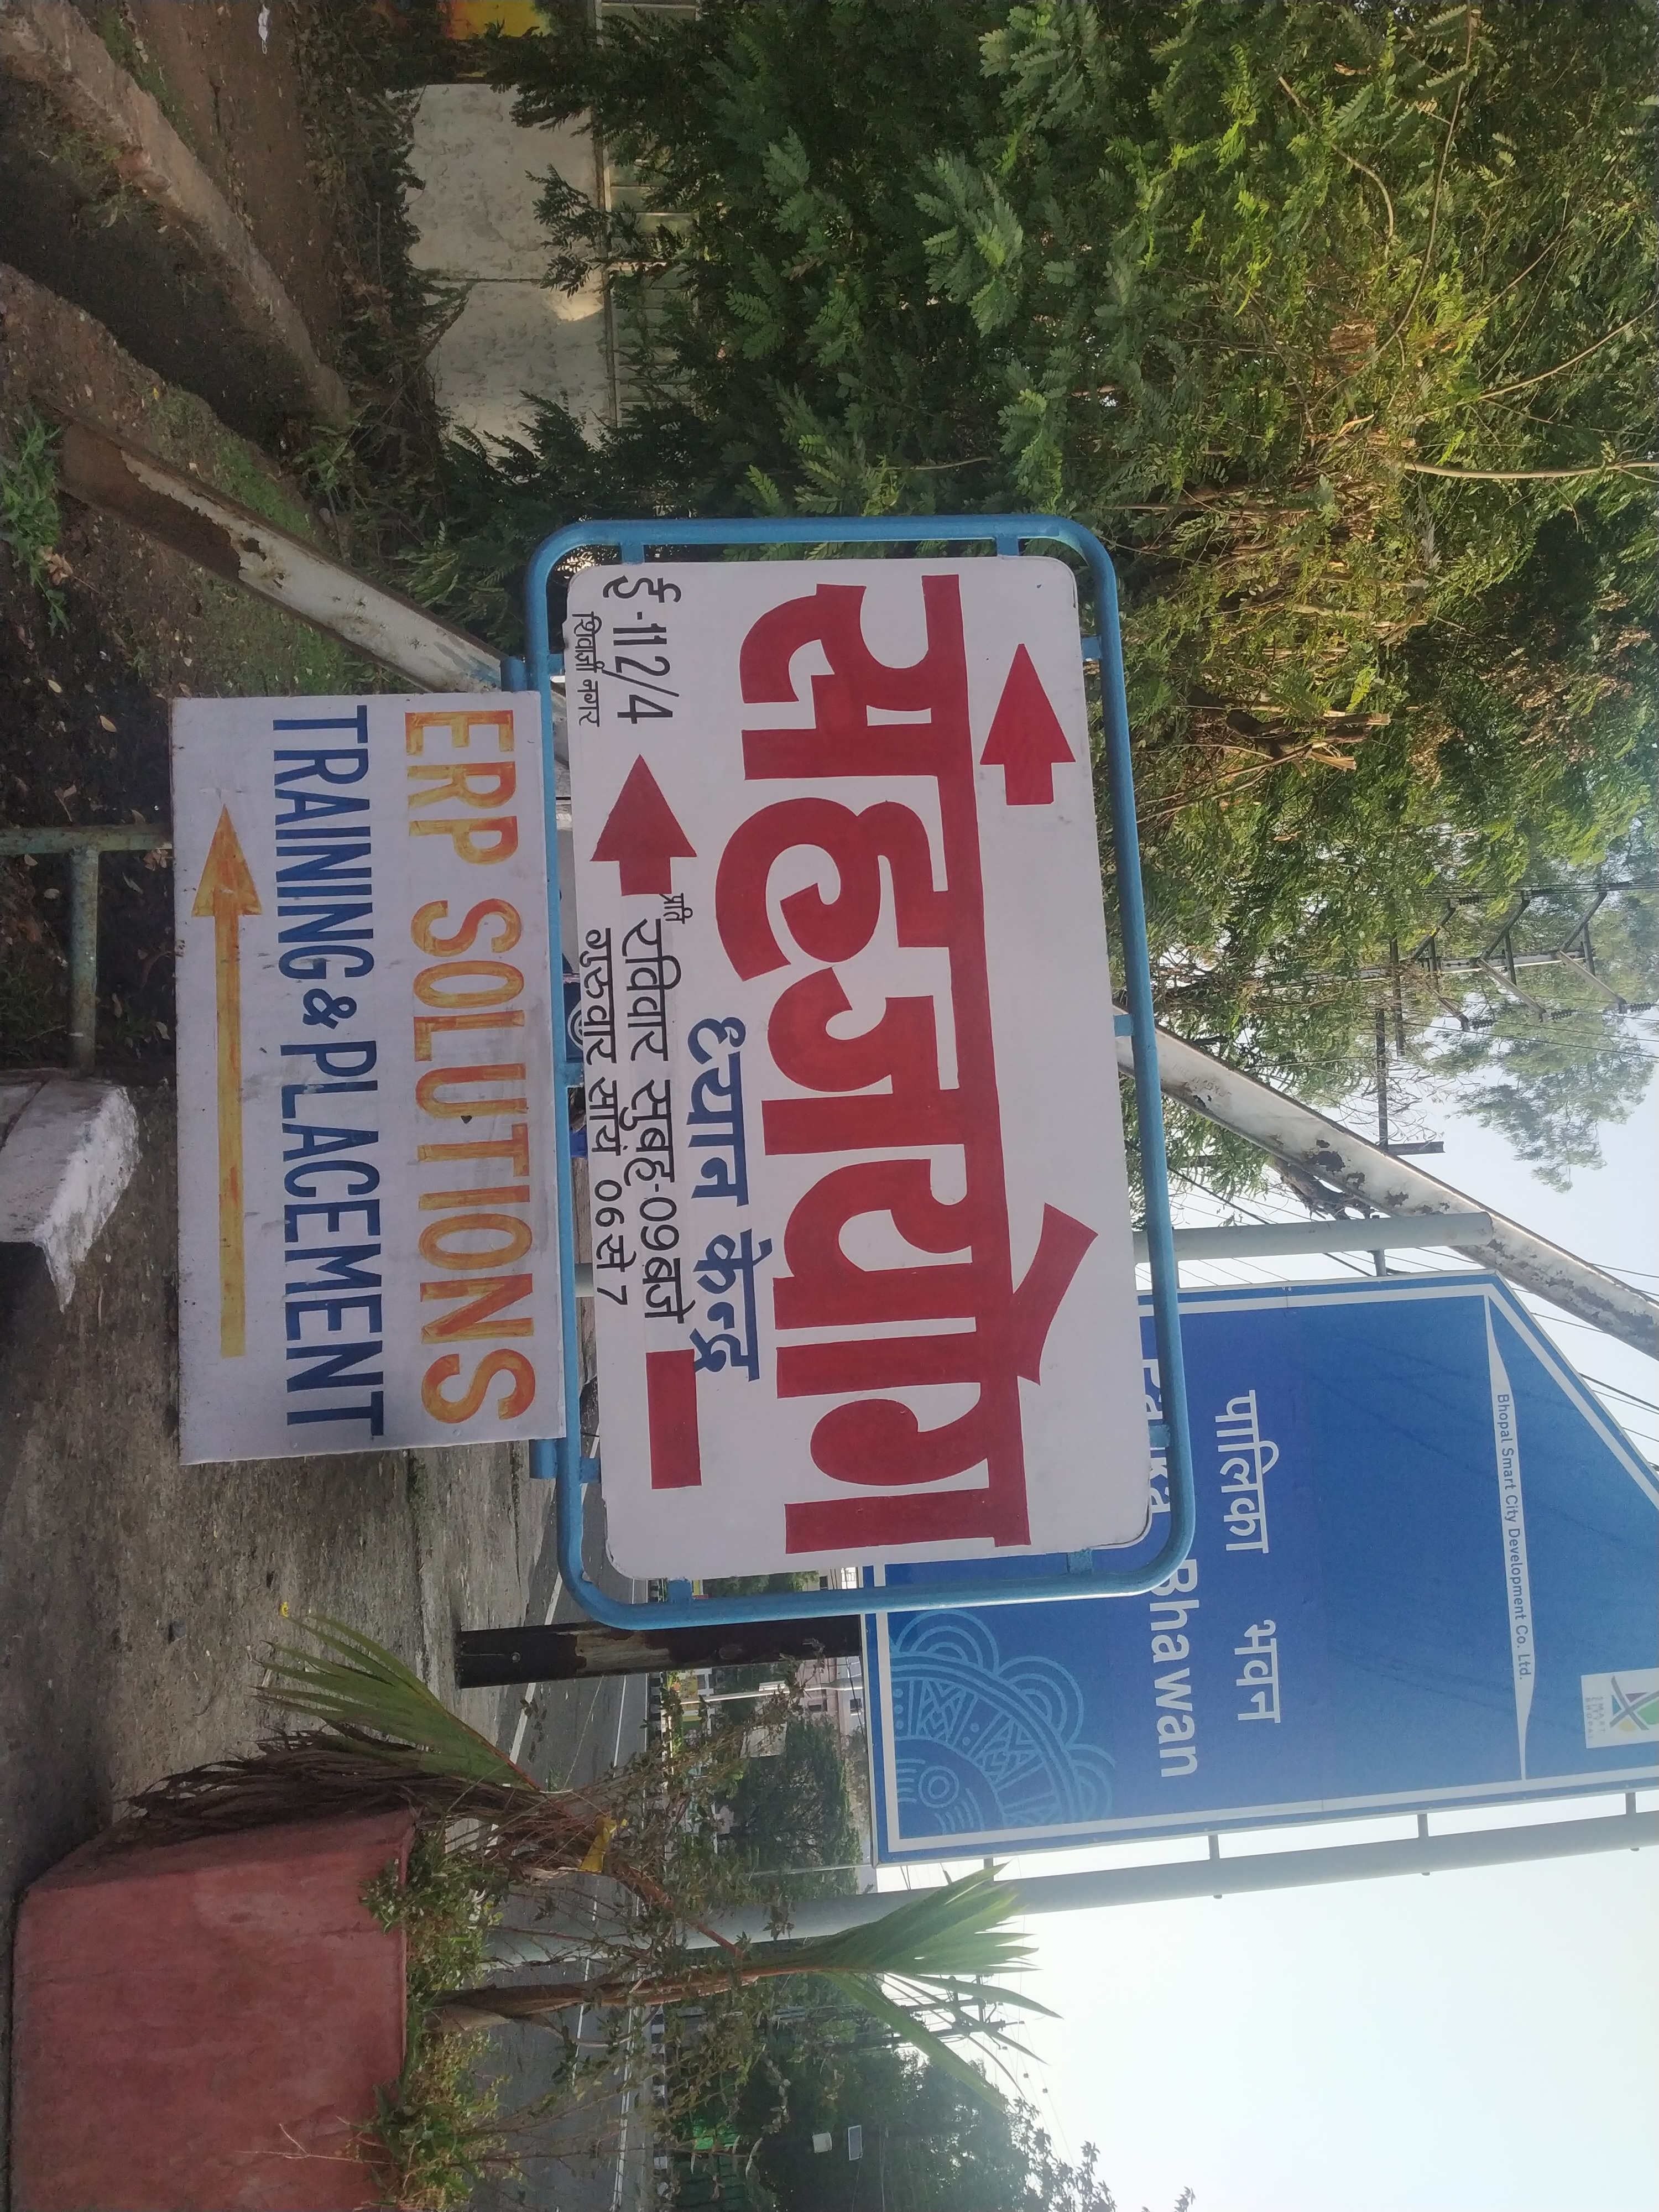text: (521, 521, 1168, 1637), (870, 1277, 1659, 1864), (159, 686, 545, 1461)
